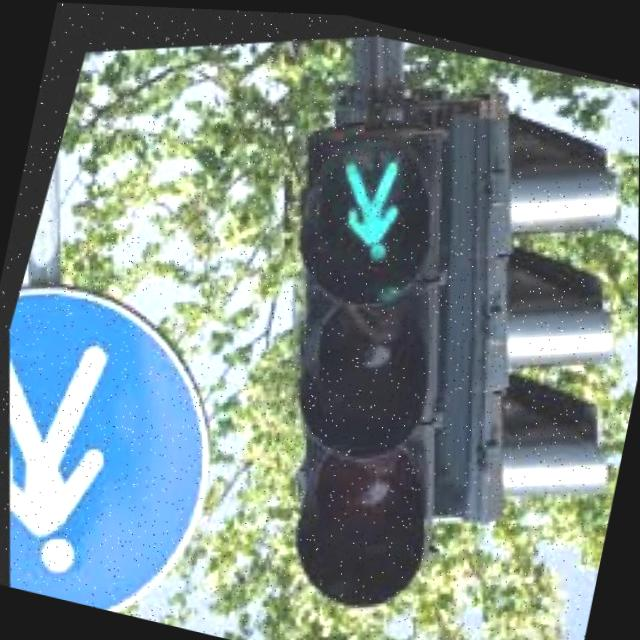green_light: (303, 129, 432, 278)
